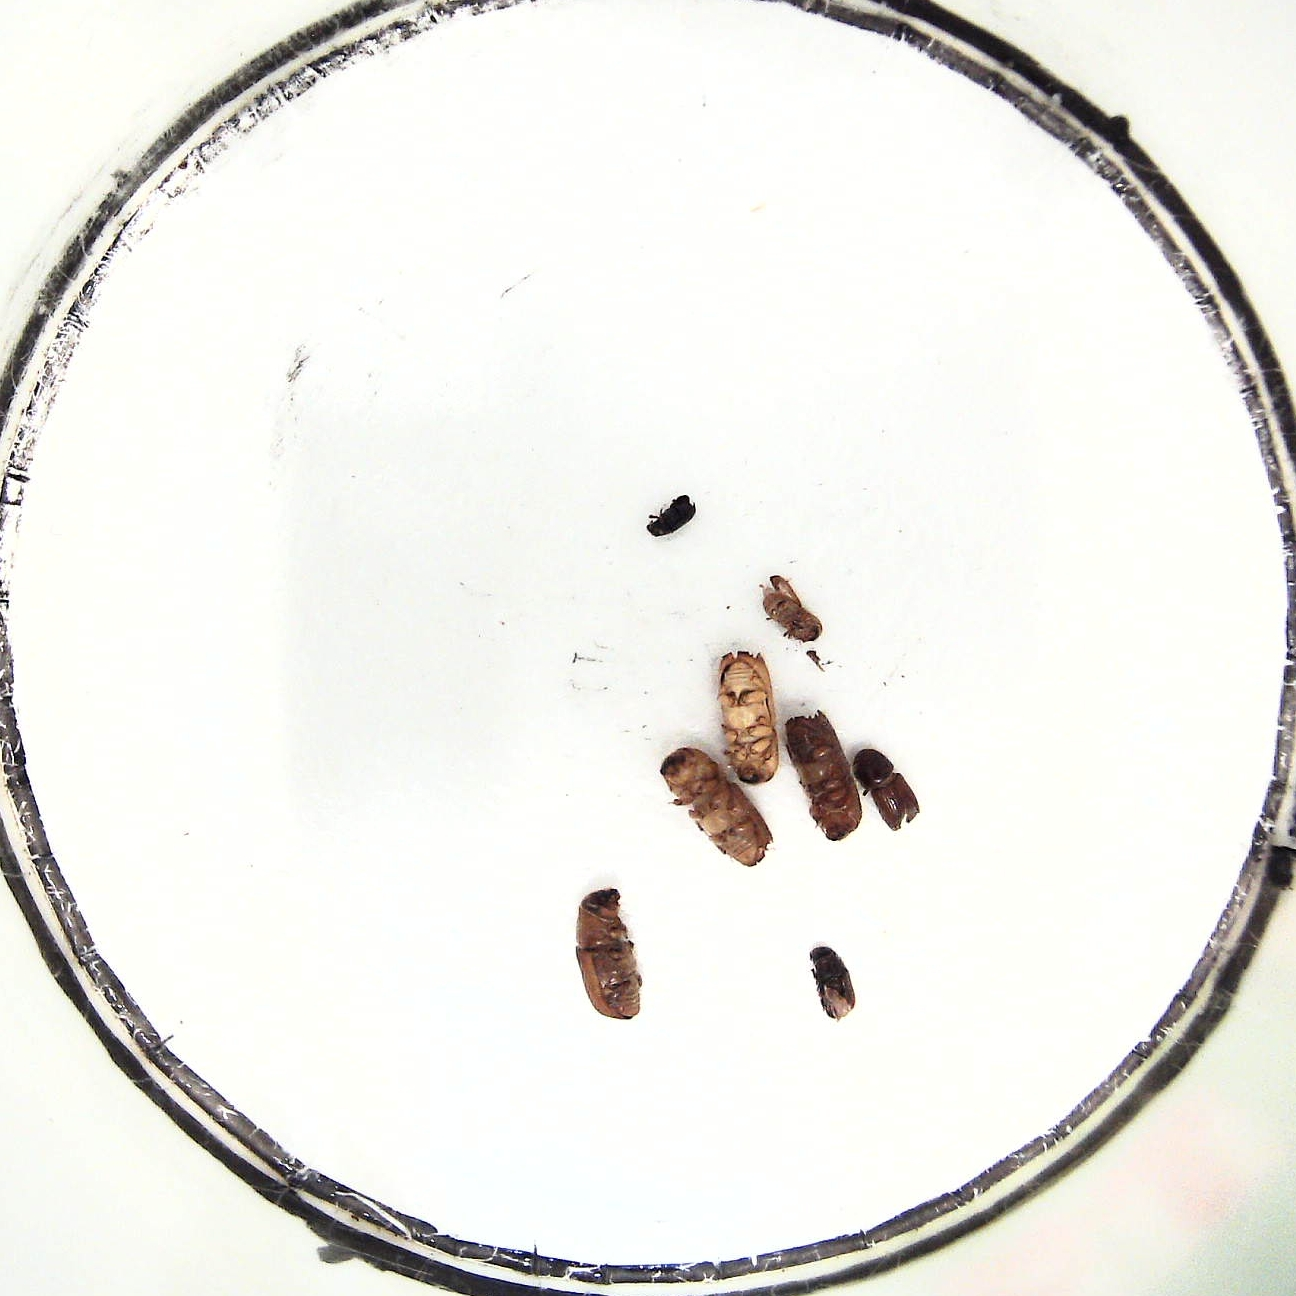Boerner: (663, 748, 774, 871), (784, 709, 864, 839), (717, 649, 782, 784)
Leconte: (573, 884, 643, 1023)
Linnaeus: (852, 748, 921, 834)
acuminatus: (762, 573, 825, 647)
armandi: (809, 944, 857, 1021)
coleoptera: (647, 493, 698, 540)
